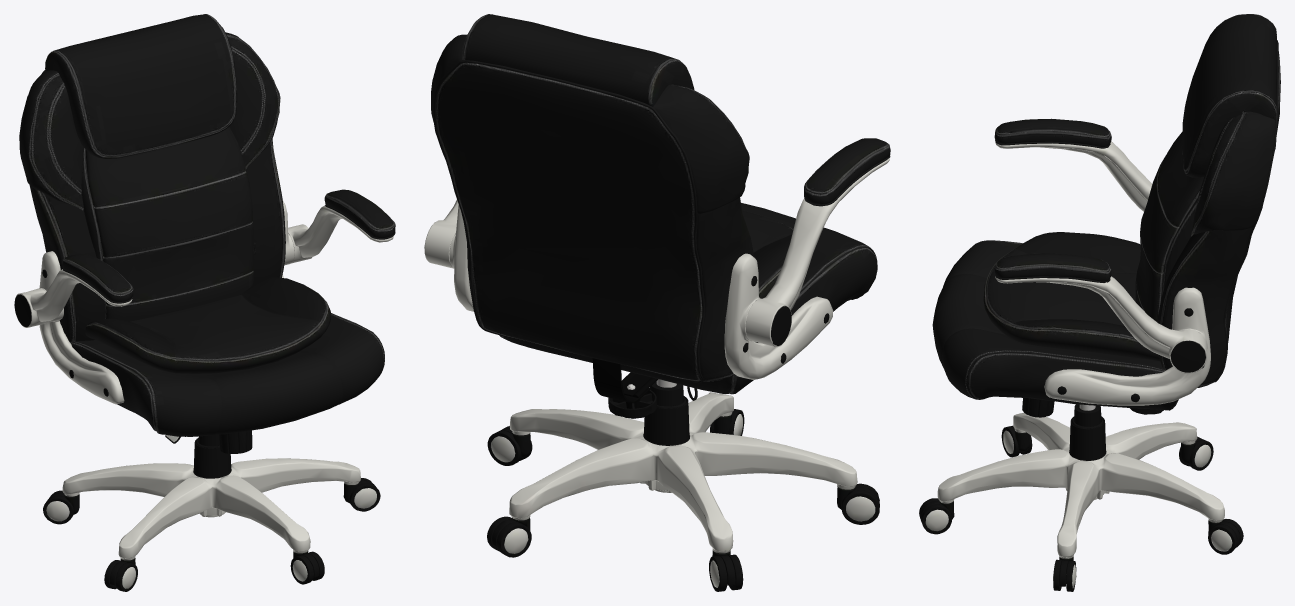
Rendered from abo-B07S574Z4R.glb.
3 views of the same model, side by side, from view 1: azimuth 30°, elevation 25°; view 2: azimuth 150°, elevation 25°; view 3: azimuth 270°, elevation 25° (orthographic). The views are drawn at different scales.
Size of the model in its own units: 0.8005 by 1.14 by 0.801.
Materials: 1 (1 with a texture image).
